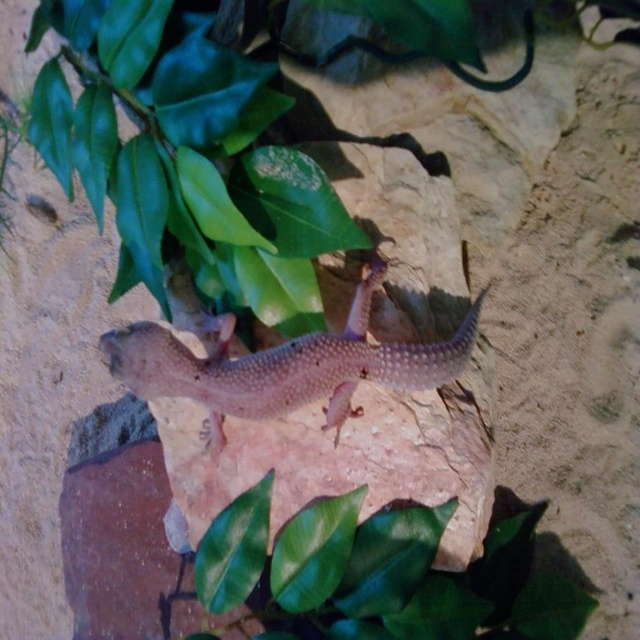Lizard: (80, 289, 517, 486)
